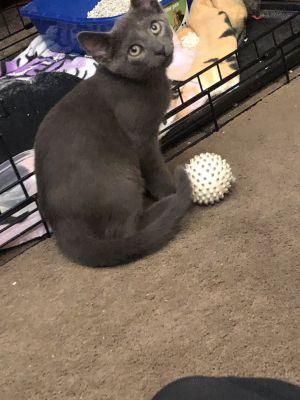rblue: (76, 1, 191, 90)
